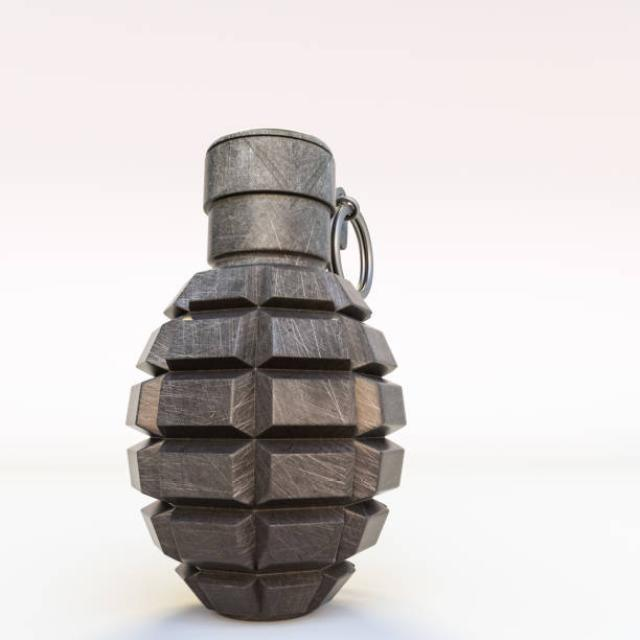grenade: (120, 126, 405, 624)
